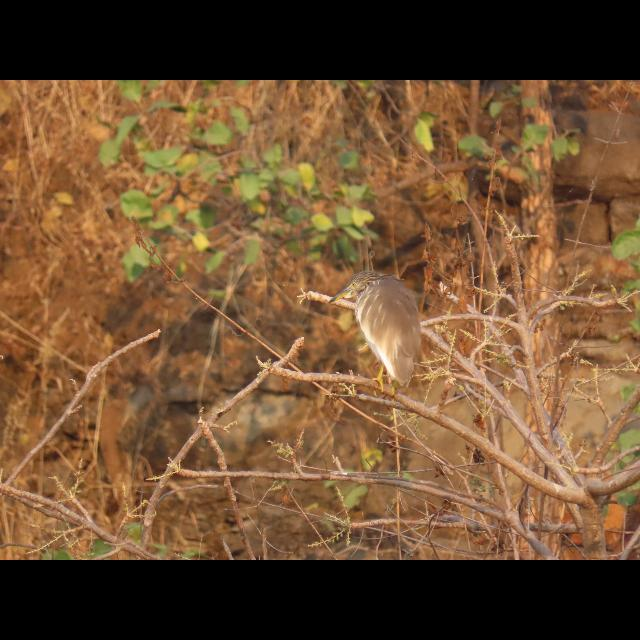heron: (319, 262, 427, 400)
